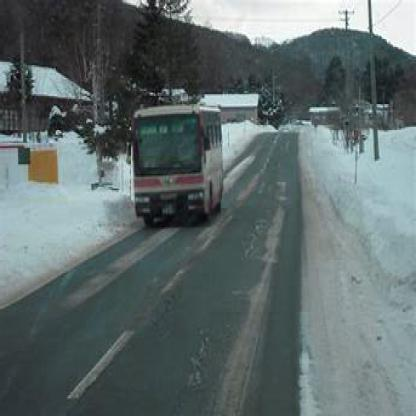bus: (131, 104, 222, 231)
